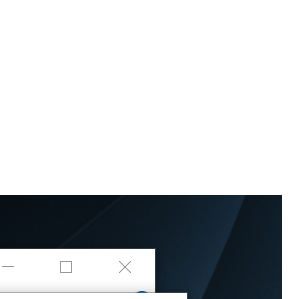close: (110, 254, 142, 281)
